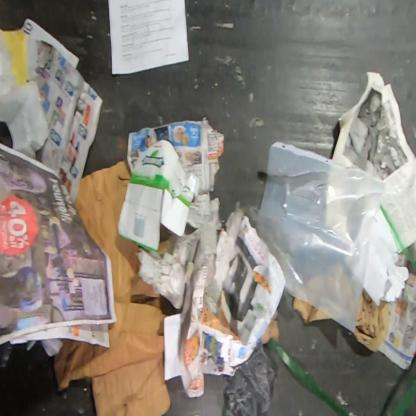cardboard: (53, 158, 172, 415), (117, 139, 200, 253), (354, 288, 390, 352), (292, 297, 332, 324), (262, 310, 279, 344), (158, 233, 178, 260)
soft_plastic: (255, 141, 388, 334), (222, 345, 278, 415)
